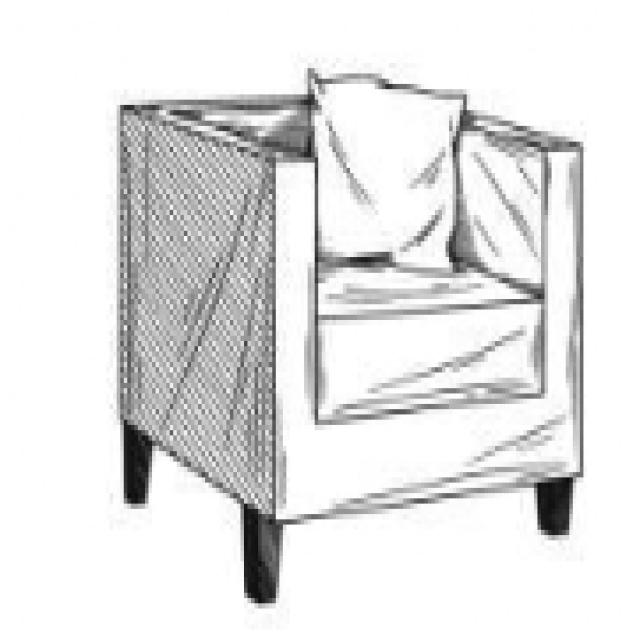Armrest: (118, 102, 322, 522), (454, 108, 586, 484)
Backrest: (144, 65, 471, 270)
Leg_Structure: (120, 414, 577, 615)
Seat: (314, 258, 542, 420)
